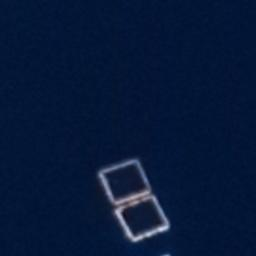square_solid: (108, 190, 176, 246), (94, 156, 158, 210)
